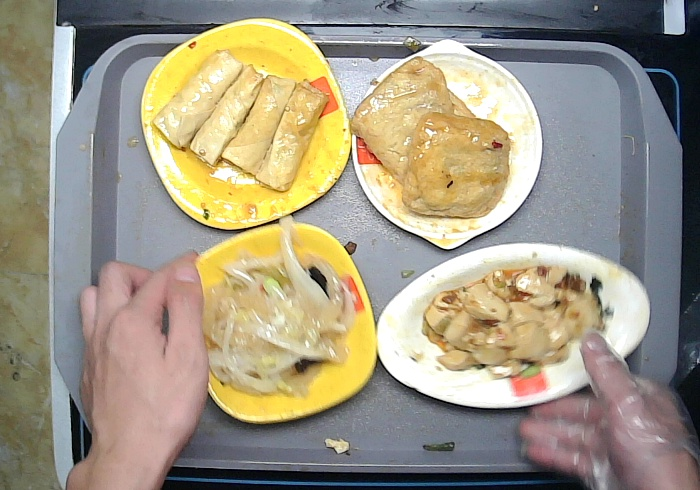SHKJ-Bao_Yu_Pan: (352, 38, 543, 249)
SHKJ-Huang_Se_Cai_Die: (178, 222, 378, 423)
SHKJ-Huang_Se_Si_Fang_Cai_Die: (140, 17, 350, 231)
SHKJ-Yu_Pan: (376, 241, 651, 410)
